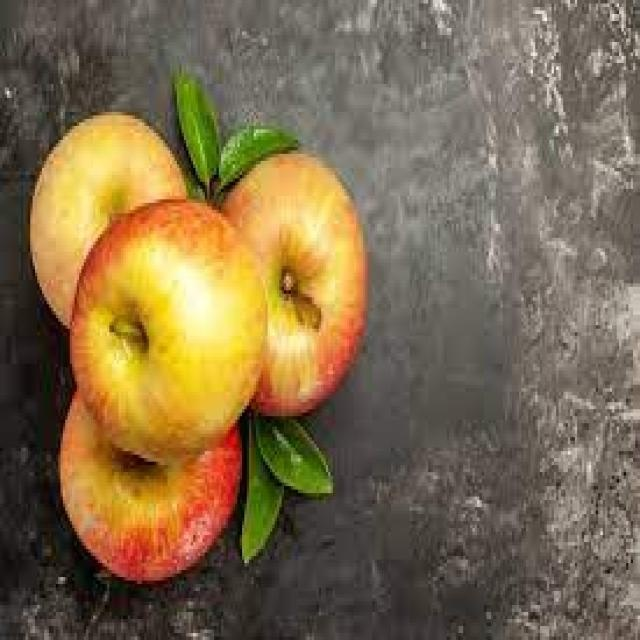agrume: (26, 161, 267, 448), (39, 312, 277, 602), (195, 110, 382, 428), (4, 81, 200, 327)
